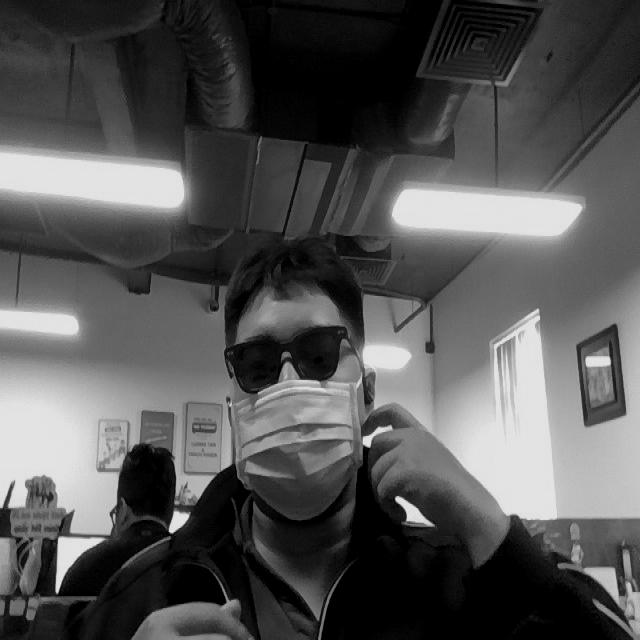fake: (219, 387, 368, 518), (220, 324, 351, 386)
